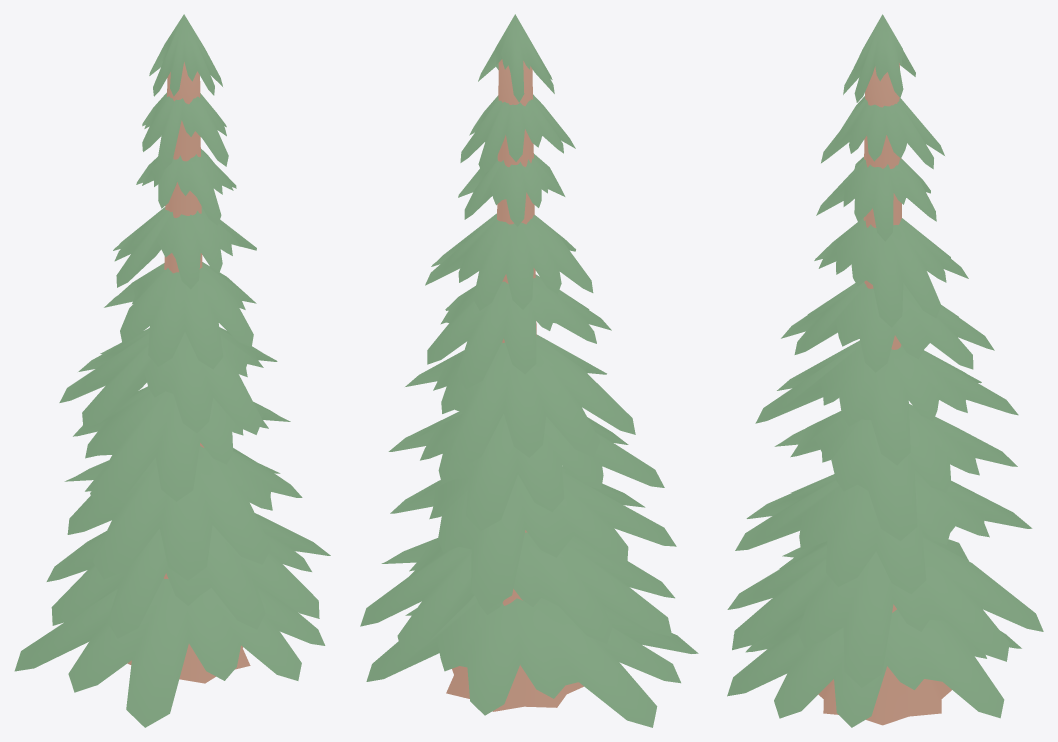
File: Blender_RedCedar_2.glb
3 renders of one model, left to right at view 1: azimuth 30°, elevation 25°; view 2: azimuth 150°, elevation 25°; view 3: azimuth 270°, elevation 25°, orthographic. The views are drawn at different scales.
Visible parts, largest first — view 1: Blender_RedCedar_2; view 2: Blender_RedCedar_2; view 3: Blender_RedCedar_2.
Part boxes in pixels (x1,y1,x2,y2): Blender_RedCedar_2: (14,14,330,727); Blender_RedCedar_2: (360,14,698,727); Blender_RedCedar_2: (727,14,1043,727).
Size of the model in its own units: 20.58 by 43.69 by 18.46.
